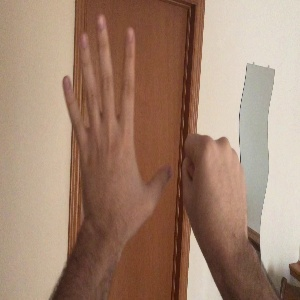hand: (63, 16, 170, 225), (182, 133, 247, 236)
